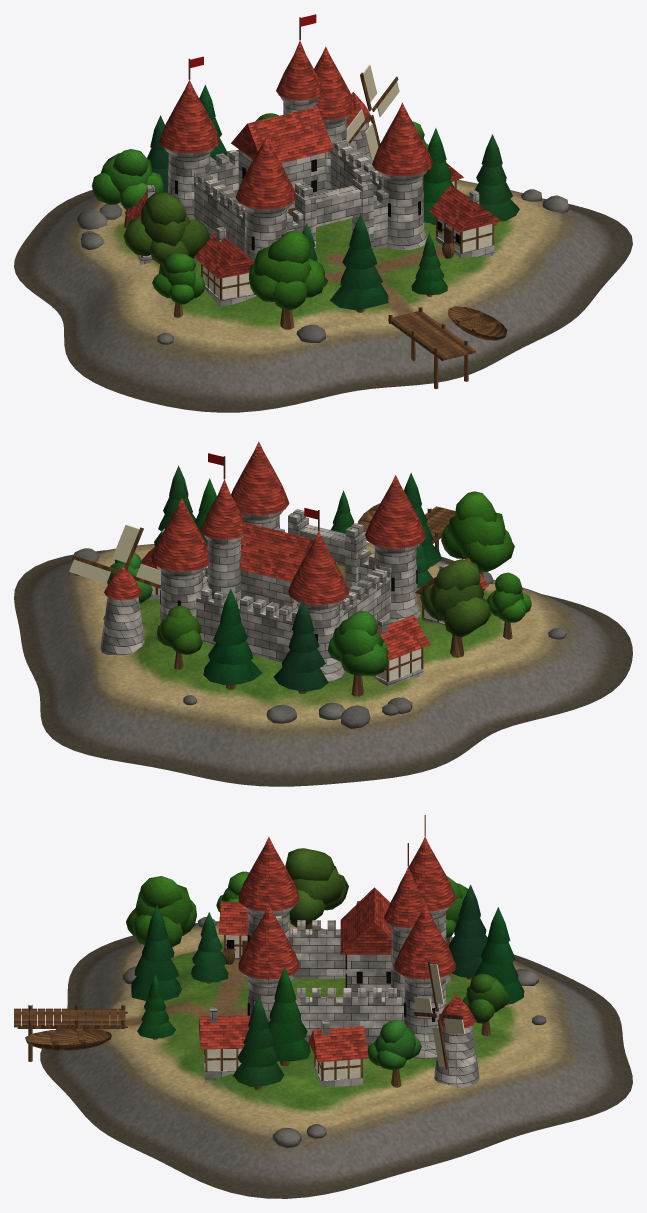
File: ilha_medieval_realista.glb
3 renders of one model, top to bottom at view 1: azimuth 30°, elevation 25°; view 2: azimuth 150°, elevation 25°; view 3: azimuth 270°, elevation 25°, orthographic.
Visible parts, largest first — view 1: MedievalIsland; view 2: MedievalIsland; view 3: MedievalIsland.
Boxes of the visible parts, x1,y1,x2,y2 form: MedievalIsland: (14, 14, 632, 412); MedievalIsland: (14, 441, 632, 786); MedievalIsland: (14, 815, 632, 1198).
Bounding box in the file's own units: 15.6 × 5.94 × 14.66.
11 materials, 8 textured.
